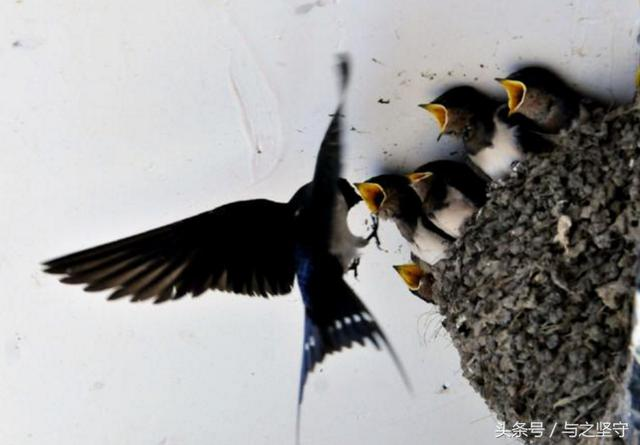bird-nest: (423, 101, 639, 417)
